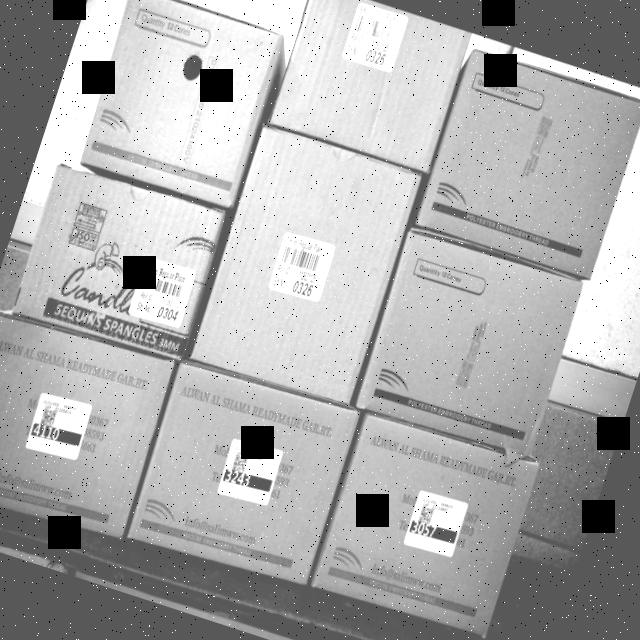box: (188, 119, 430, 410), (310, 408, 545, 640), (124, 356, 360, 587), (354, 228, 586, 460), (418, 49, 640, 283), (75, 0, 290, 210), (12, 159, 230, 363), (0, 308, 176, 540), (267, 0, 472, 179)
